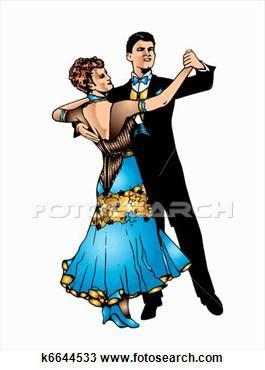person: (104, 22, 230, 324), (47, 52, 180, 331)
